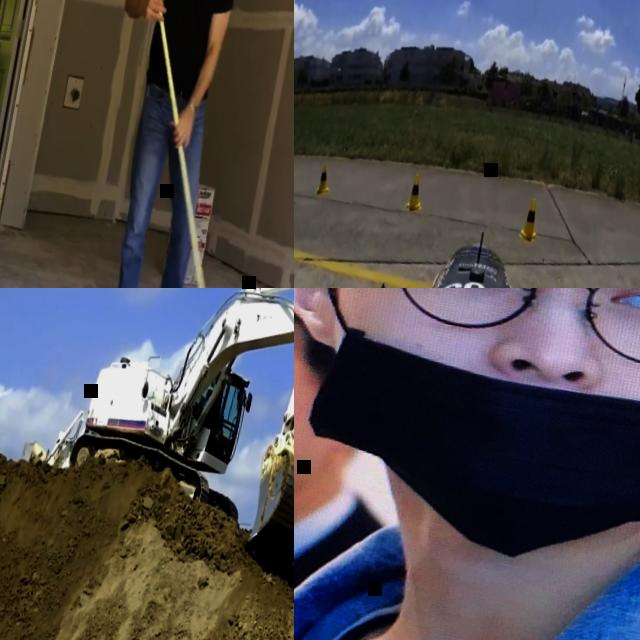Mask: (294, 288, 640, 599)
NO-Mask: (294, 383, 344, 541)
NO-Safety Vest: (294, 528, 640, 640), (140, 0, 234, 102)
Person: (294, 288, 640, 640), (62, 0, 281, 288), (294, 288, 455, 640), (196, 386, 228, 450)
Safety Cone: (516, 198, 543, 245), (403, 167, 428, 215), (312, 160, 332, 198)
vehicle: (57, 288, 294, 576), (294, 193, 640, 288), (19, 398, 85, 476)
